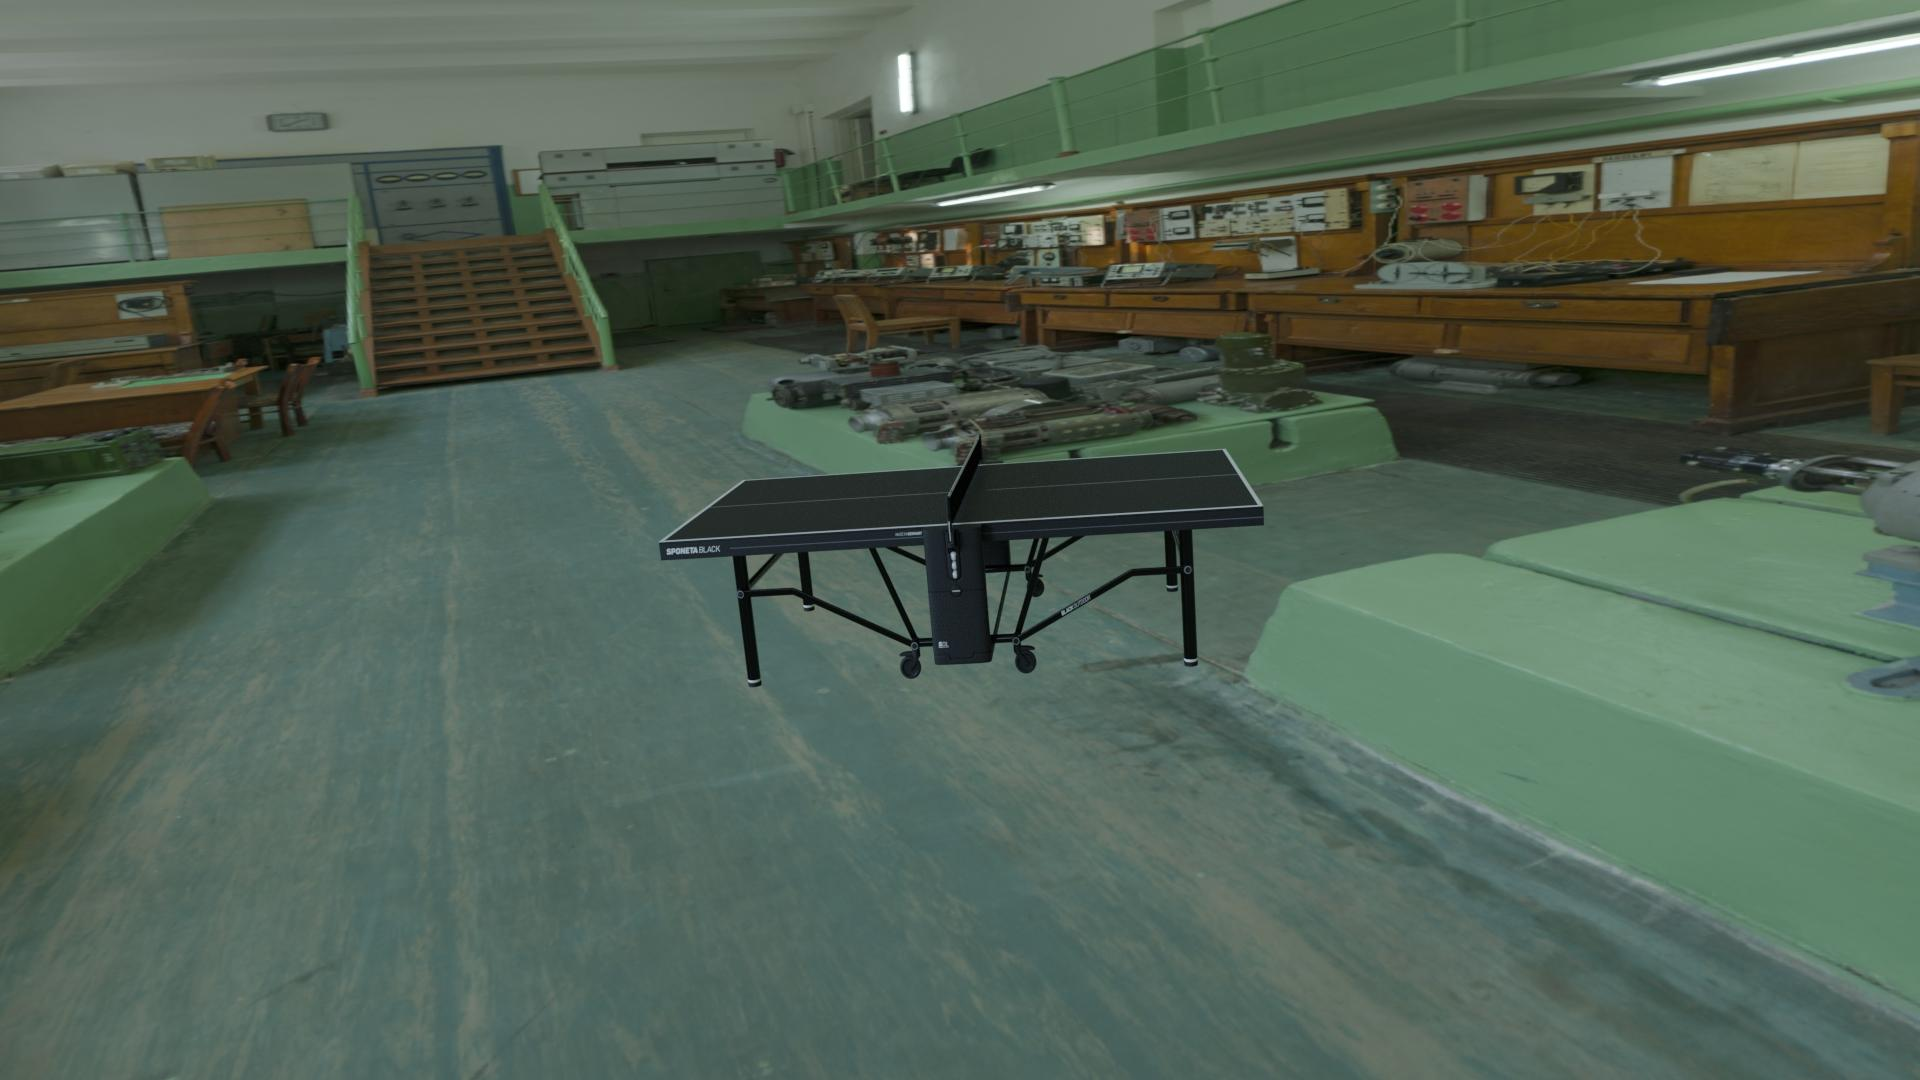table: (665, 450, 1258, 541)
